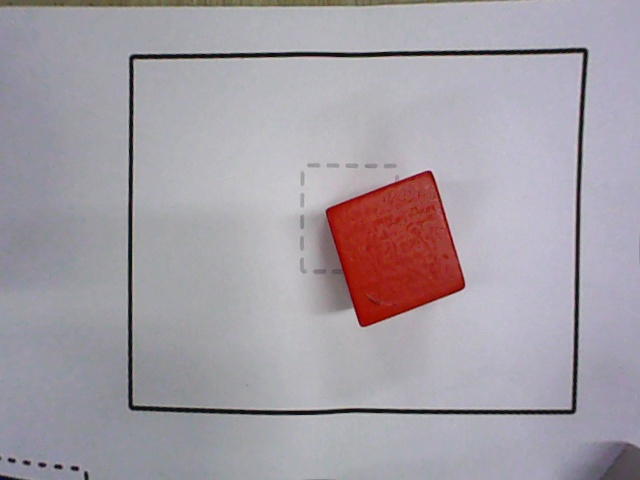upside of big cube: (325, 171, 467, 330)
